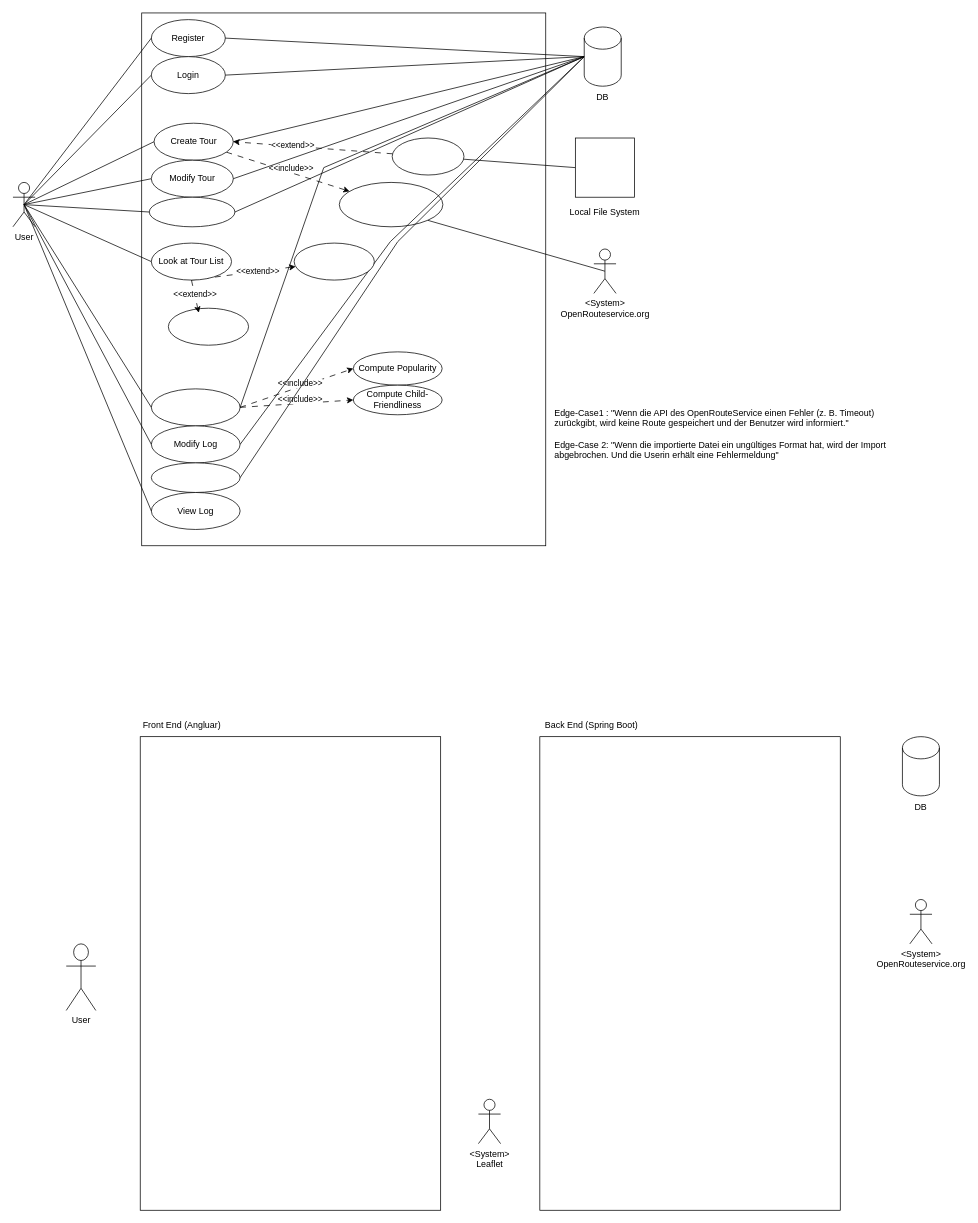
Some shapes in this 978 by 1223 pixel diagram are drawn without their labels. Each missing label, with the box of its shape:
Create Log: (151, 388, 240, 426)
Delete Log: (151, 462, 240, 492)
Delete Tour: (149, 196, 235, 227)
Filter Tours: (293, 242, 374, 280)
Import/Export Tour: (391, 137, 464, 175)
Request estimated time and route information: (339, 182, 443, 227)
Select Tour: (168, 307, 249, 345)
